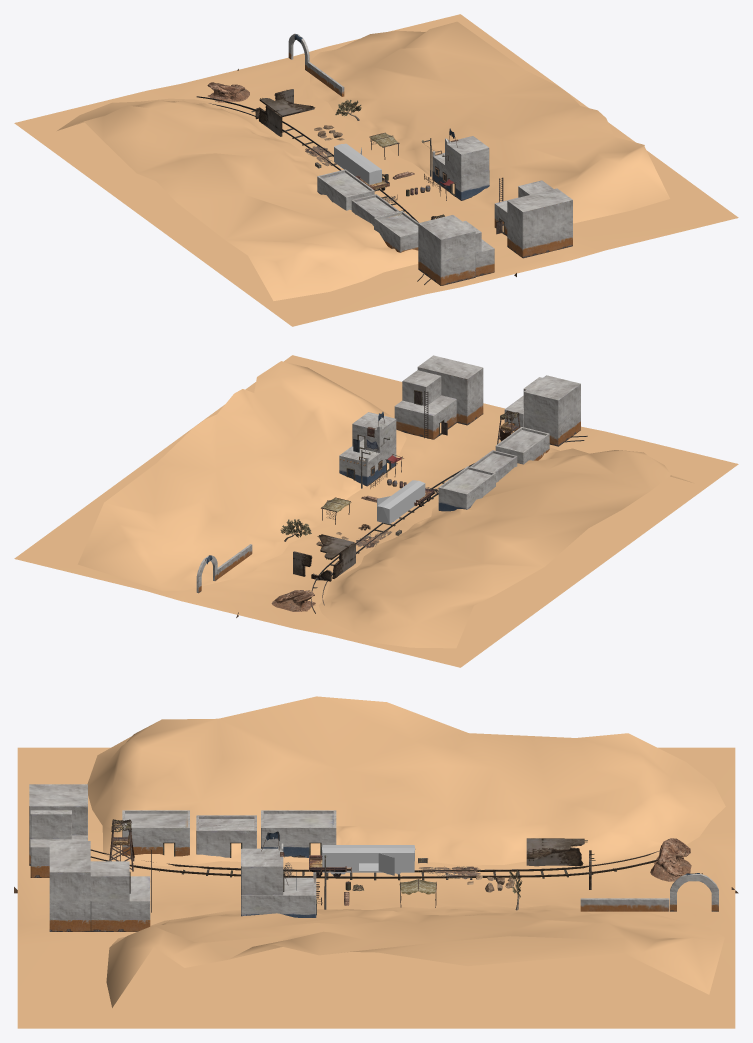
Rendered from Map_P06_Desert.fbx.
The picture shows the model from 3 angles, top to bottom: view 1: azimuth 30°, elevation 25°; view 2: azimuth 150°, elevation 25°; view 3: azimuth 270°, elevation 25°; orthographic projection. The views are drawn at different scales.
Parts seen in each view (by area): view 1: Terrain_P06, Terrain_M1_P06, Terrain_M2_P06, Assets_Nhacam2_P06, Assets_Nhacam4_P06, Assets_NhaTrang1_P06, Assets_Nhabe1, Assets_Nhabe3, Assets_NhaXanh1_P06, train:polySurface13, Assets_Nhabe2, train:pasted__pCube2 (+3 smaller); view 2: Terrain_M1_P06, Terrain_P06, Terrain_M2_P06, Assets_Nhacam4_P06, Assets_Nhacam2_P06, Assets_NhaTrang1_P06 (×2), Assets_Nhacam1_P06, Assets_Nhabe1, Assets_NhaXanh1_P06, Assets_Nhabe3, train:polySurface13, Assets_Nhabe2 (+3 smaller); view 3: Terrain_P06, Terrain_M2_P06, Terrain_M1_P06, Assets_NhaTrang1_P06 (×3), Assets_Nhacam2_P06, Assets_Nhabe1, Assets_Nhabe3, train:polySurface13, Assets_Nhacam1_P06, train:pasted__pCube2, Assets_Nhabe2, Assets_NhaXanh1_P06 (+8 smaller).
Part boxes in pixels (bbox=[...]): Terrain_P06: bbox=[14, 14, 738, 326]; Terrain_M1_P06: bbox=[310, 21, 669, 223]; Terrain_M2_P06: bbox=[57, 98, 418, 300]; Assets_Nhacam2_P06: bbox=[507, 188, 572, 258]; Assets_Nhacam4_P06: bbox=[418, 215, 475, 285]; Assets_NhaTrang1_P06: bbox=[445, 136, 489, 176]; Assets_Nhabe1: bbox=[317, 169, 374, 210]; Assets_Nhabe3: bbox=[374, 211, 418, 252]; Assets_NhaXanh1_P06: bbox=[432, 153, 489, 200]; train:polySurface13: bbox=[334, 143, 381, 184]; Assets_Nhabe2: bbox=[351, 194, 399, 225]; train:pasted__pCube2: bbox=[196, 96, 430, 284]; Terrain_M1_P06: bbox=[77, 361, 406, 591]; Terrain_P06: bbox=[14, 355, 738, 667]; Terrain_M2_P06: bbox=[318, 447, 692, 648]; Assets_Nhacam4_P06: bbox=[524, 375, 580, 446]; Assets_Nhacam2_P06: bbox=[417, 355, 483, 425]; Assets_NhaTrang1_P06 (×2): bbox=[352, 370, 441, 452]; Assets_Nhacam1_P06: bbox=[394, 395, 456, 439]; Assets_Nhabe1: bbox=[438, 466, 495, 511]; Assets_NhaXanh1_P06: bbox=[339, 439, 396, 486]; Assets_Nhabe3: bbox=[495, 427, 549, 464]; train:polySurface13: bbox=[377, 480, 425, 524]; Assets_Nhabe2: bbox=[470, 450, 517, 482]; Terrain_P06: bbox=[17, 747, 735, 1028]; Terrain_M2_P06: bbox=[87, 696, 725, 866]; Terrain_M1_P06: bbox=[106, 905, 724, 1007]; Assets_NhaTrang1_P06 (×3): bbox=[30, 810, 284, 901]; Assets_Nhacam2_P06: bbox=[49, 841, 90, 931]; Assets_Nhabe1: bbox=[261, 810, 336, 857]; Assets_Nhabe3: bbox=[122, 810, 189, 856]; train:polySurface13: bbox=[322, 845, 415, 875]; Assets_Nhacam1_P06: bbox=[90, 876, 150, 931]; train:pasted__pCube2: bbox=[90, 849, 659, 880]; Assets_Nhabe2: bbox=[196, 815, 256, 857]; Assets_NhaXanh1_P06: bbox=[241, 877, 316, 917].
Bounding box in the file's own units: 9001 × 1265 × 9816.
